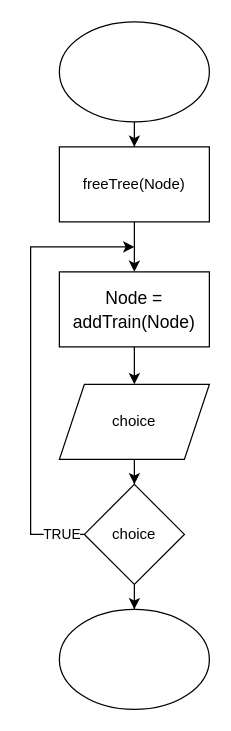
Image size: 231x731. Some labels were removed from this diagram. The box of each missing label's shape, as (x1, y1, x2, y2) in pixels:
Конец: (58, 608, 209, 709)
Начало makeTree: (58, 21, 209, 122)
